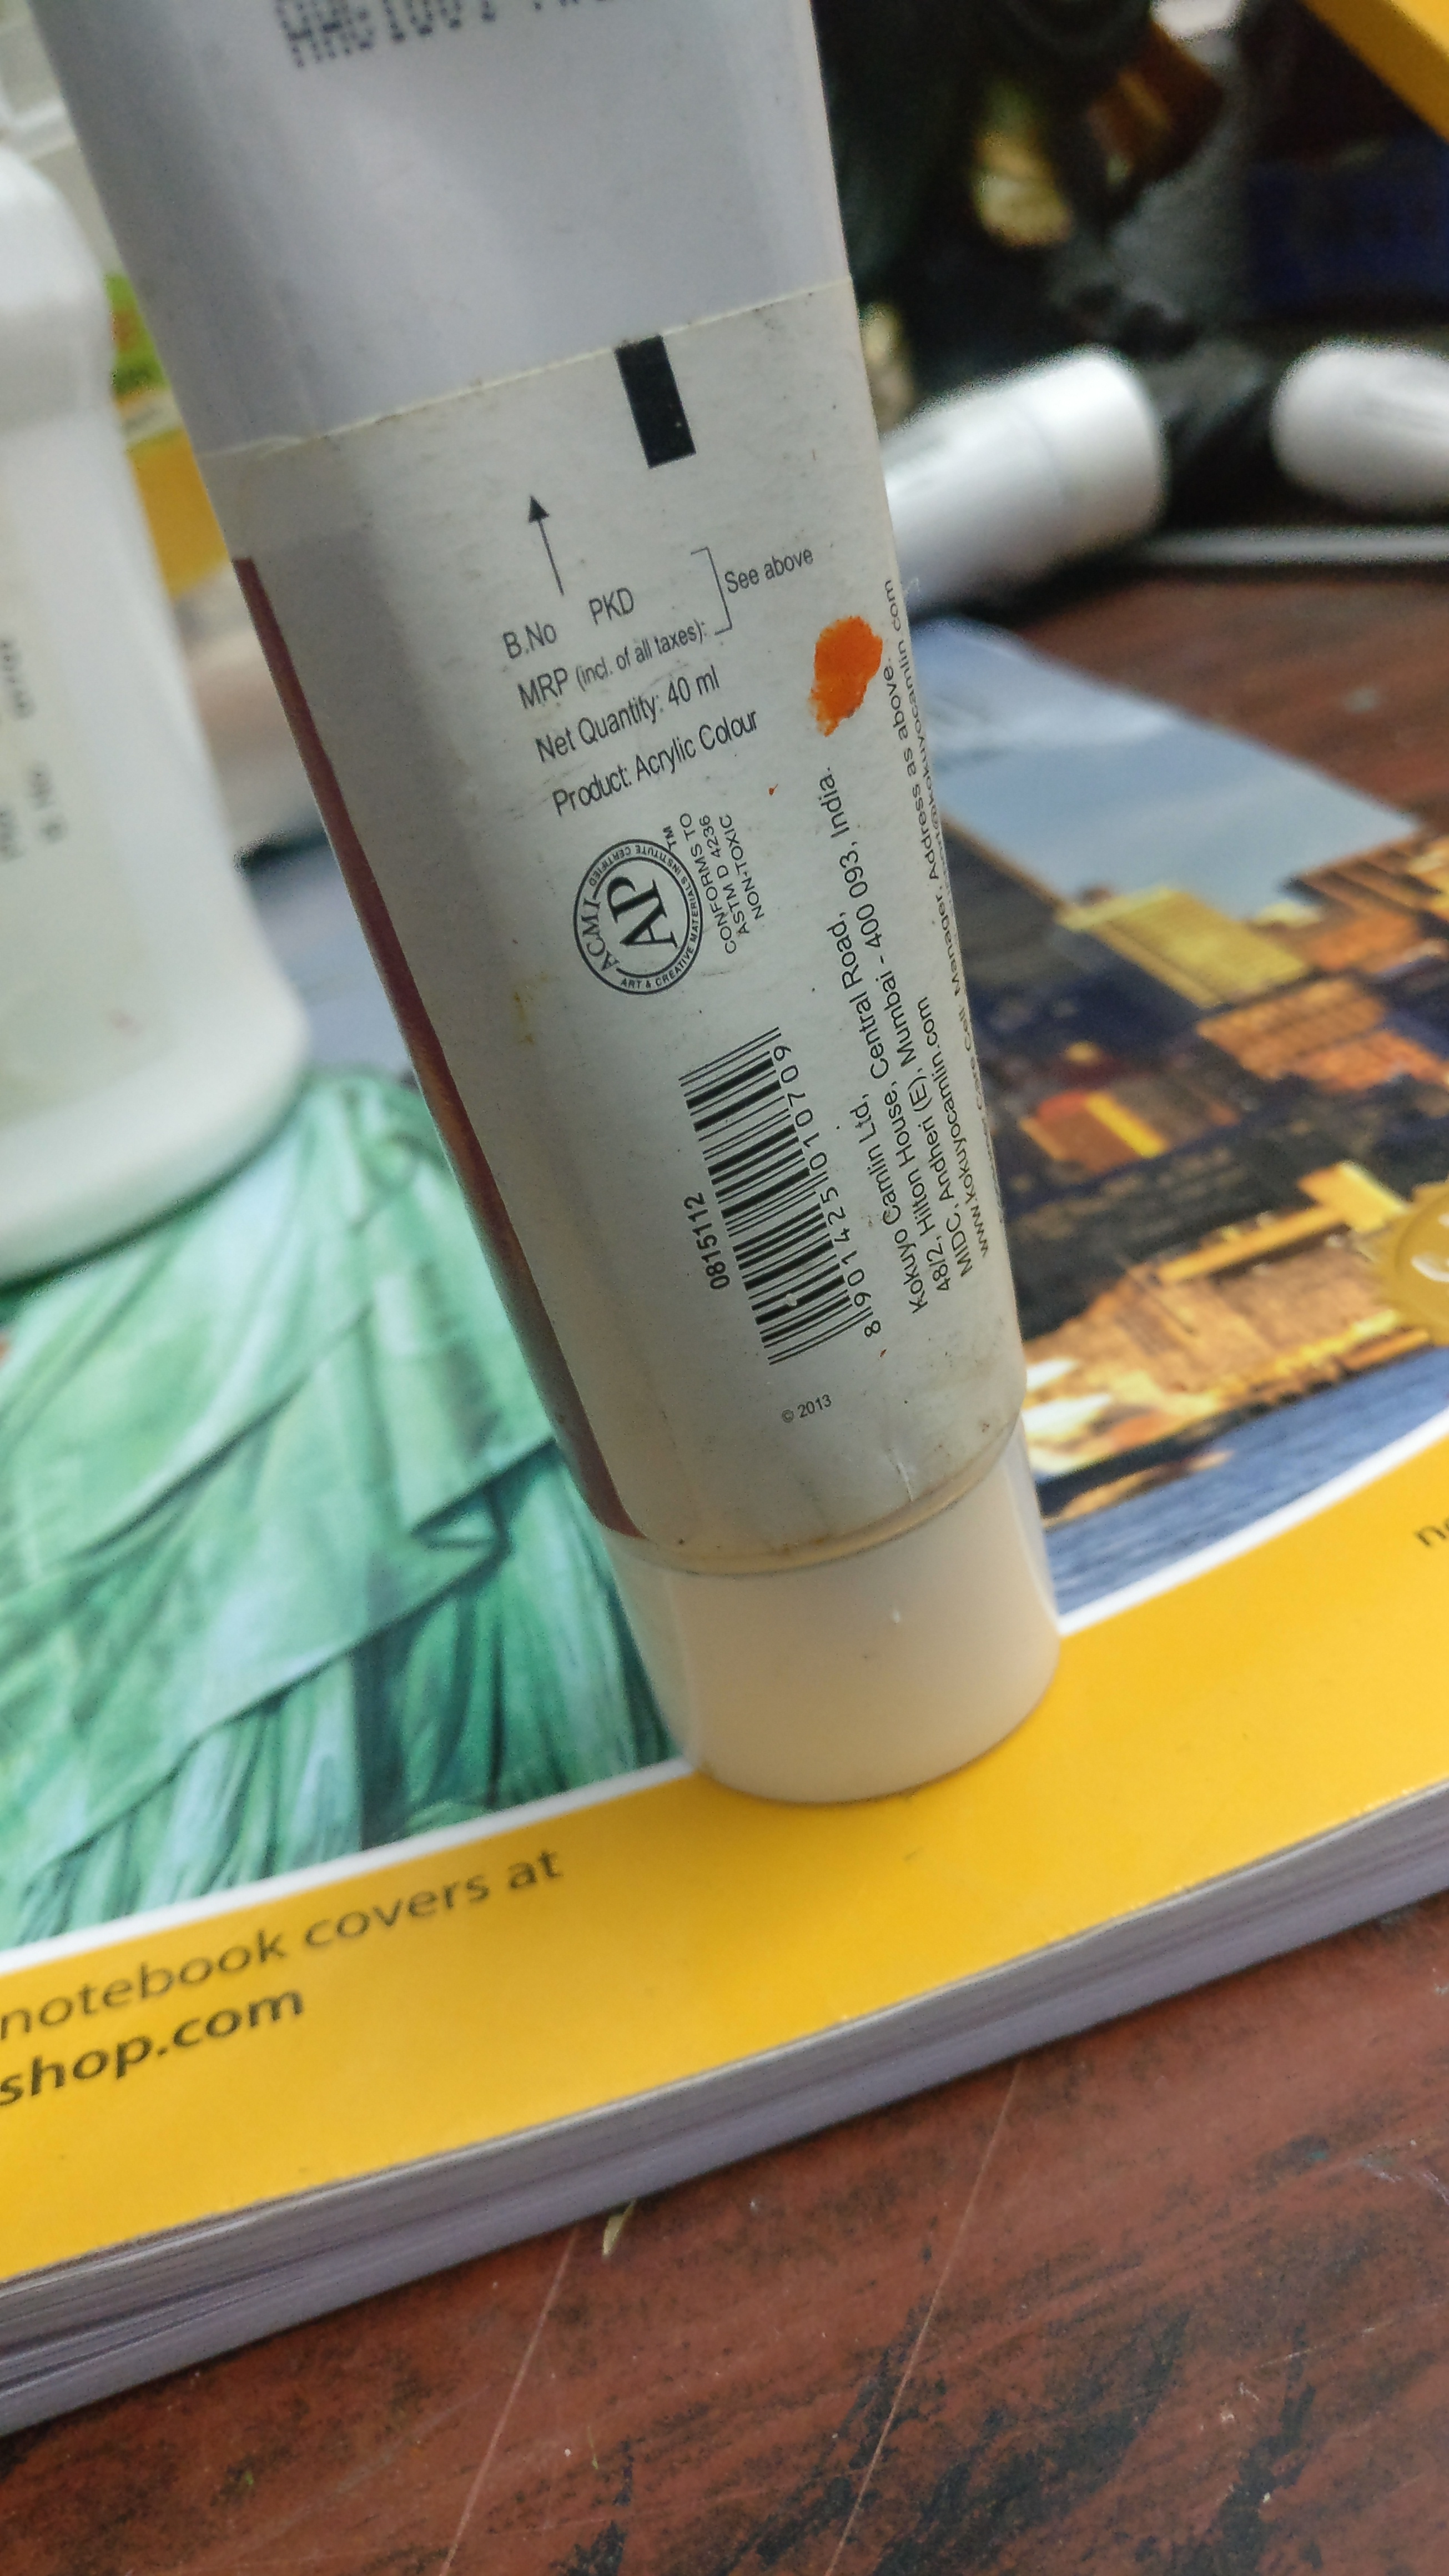barcode: (662, 1030, 895, 1382)
